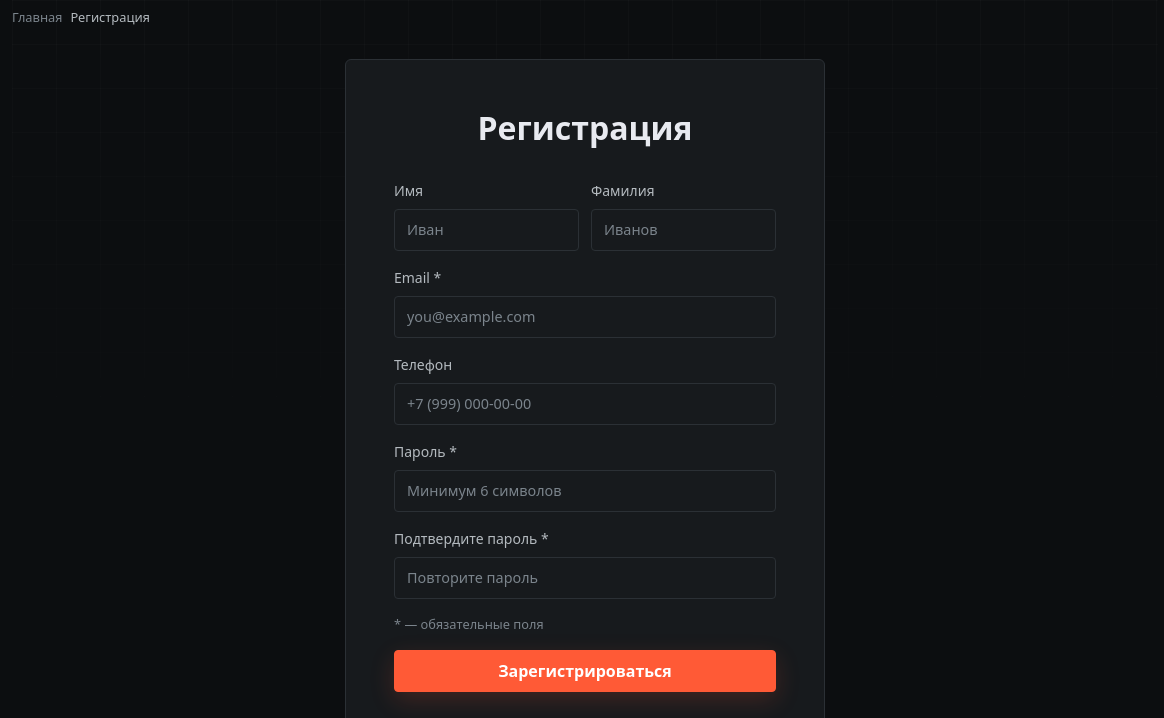
Test: RegisterPage › shows server field error for duplicated email
Type "exists@example.com" into the field labelled "Email *" at (585, 317), box [394, 296, 776, 338]
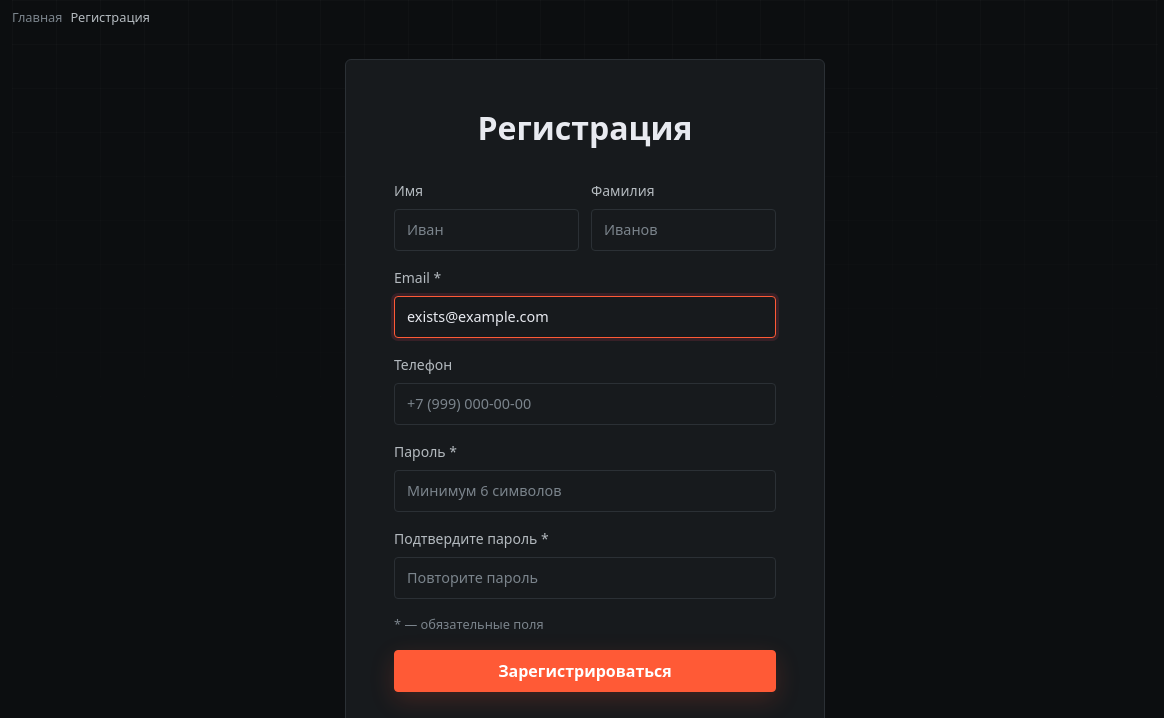
Type "Secret123" into the password field labelled "Пароль *" at (585, 491), box [394, 470, 776, 512]
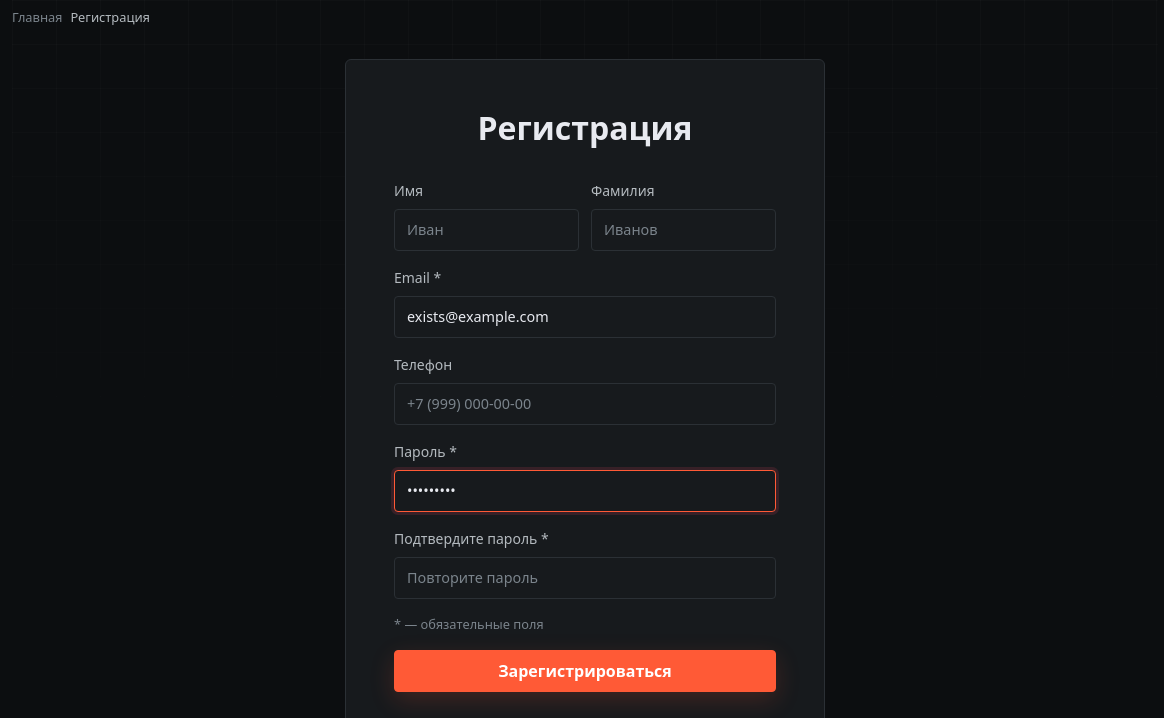
Type "Secret123" into the password field labelled "Подтвердите пароль *" at (585, 578), box [394, 557, 776, 599]
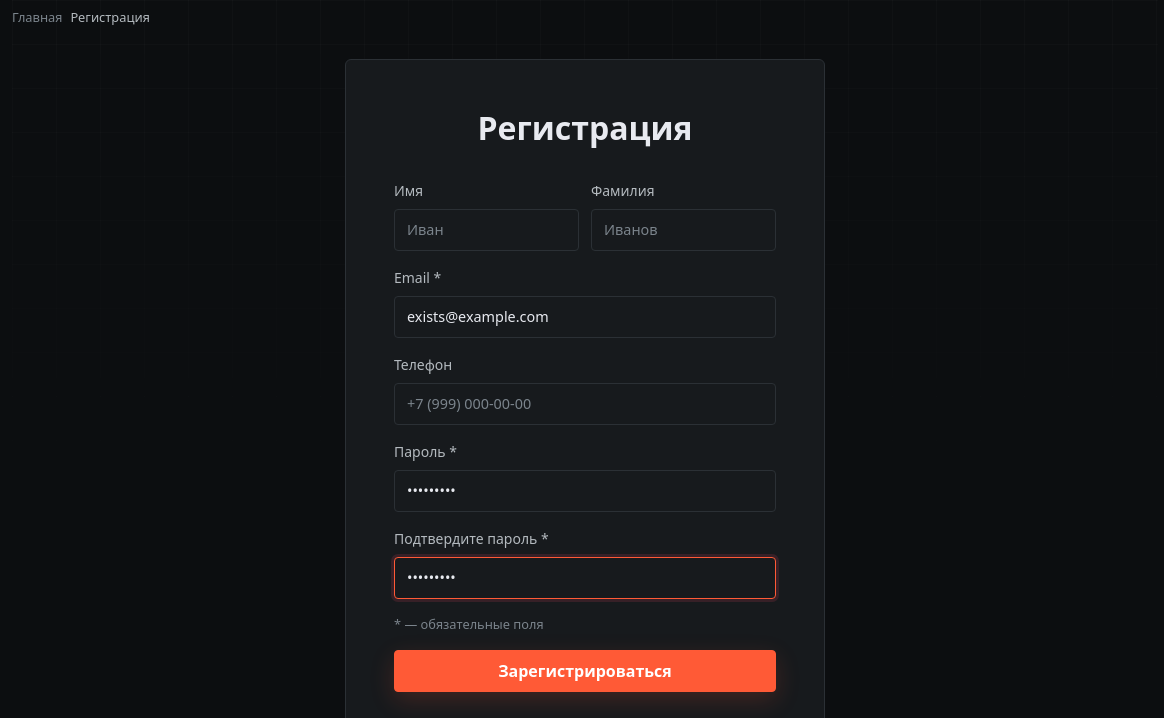
Click the button at (585, 671), box [394, 650, 776, 692]
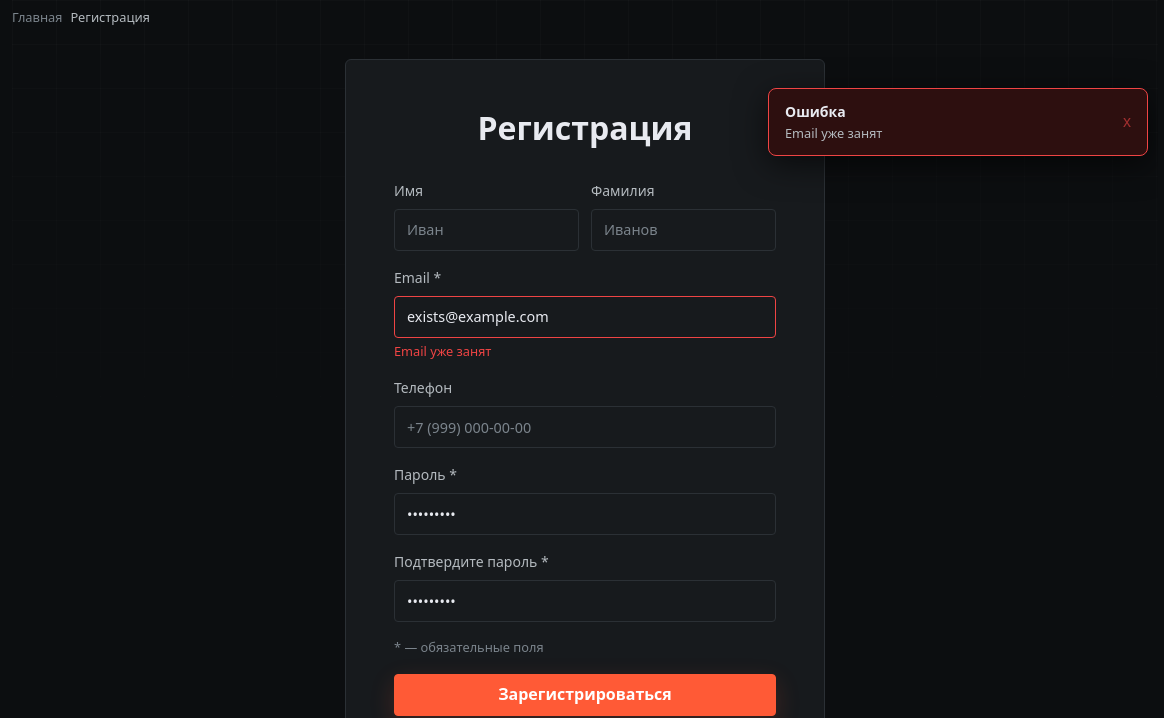
expect the text "Email уже занят" is shown 2 times: met, box [394, 342, 492, 360]; [785, 124, 882, 142]
